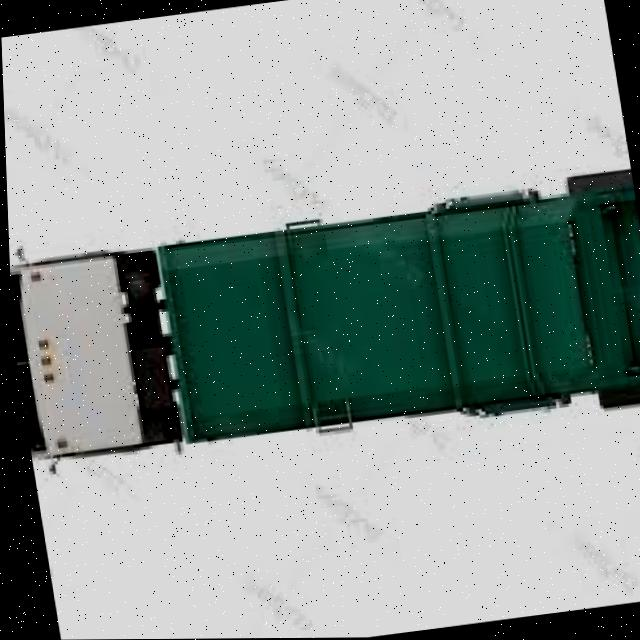truck: (5, 163, 640, 479)
